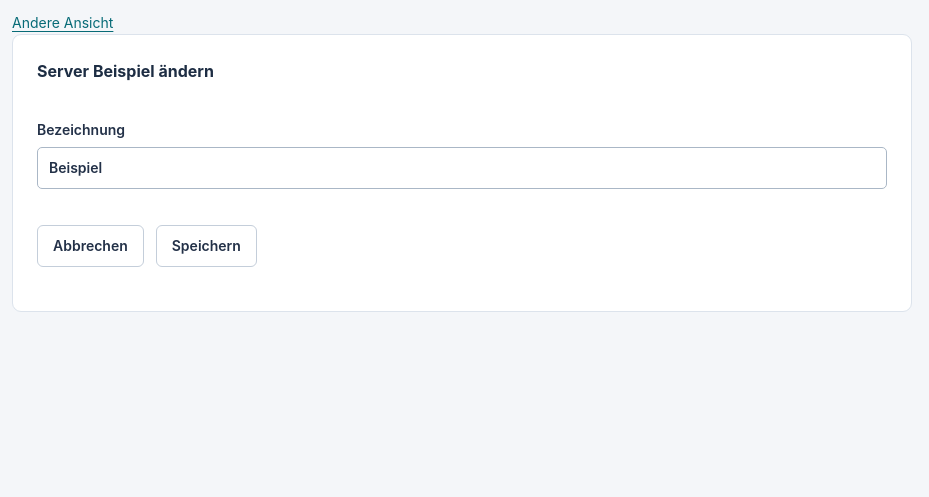
Test case: Administrative mutation boundary › prevents duplicate mutations and never reports unknown outcomes as success
Click the button "Speichern": [206, 246] box [156,225,257,267]
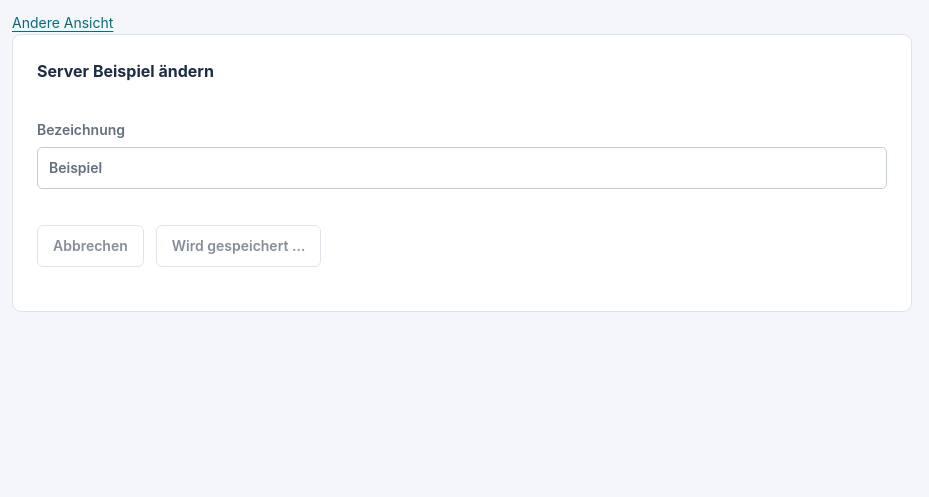
Click the button named "Speichern": [239, 246] box [156,225,321,267]
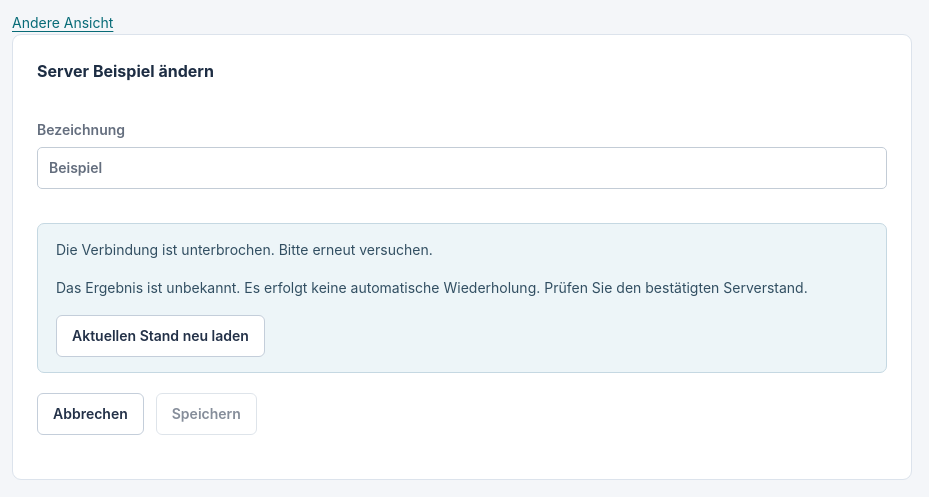
Expected: the button "Speichern" is disabled, [156,392,257,434]
Expected: the message is shown, [37,223,887,373]
